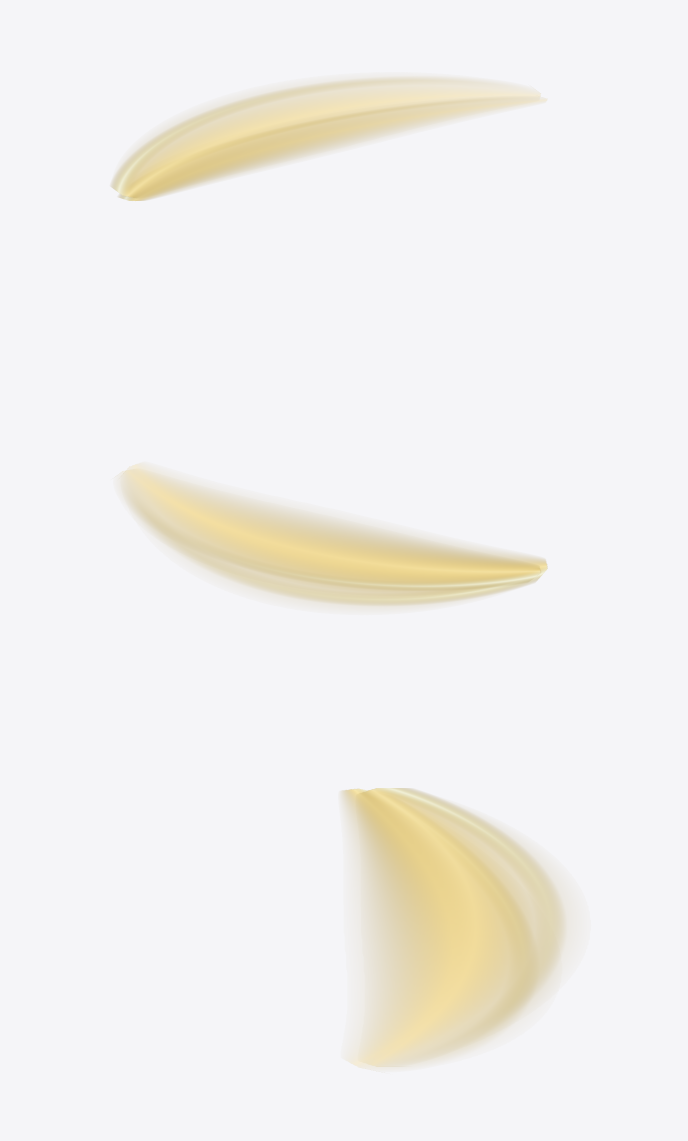
File: fx_sw_hammer.glb
The picture shows the model from 3 angles, top to bottom: view 1: azimuth 30°, elevation 25°; view 2: azimuth 150°, elevation 25°; view 3: azimuth 270°, elevation 25°; orthographic projection. The views are drawn at different scales.
Parts seen in each view (by area): view 1: fx_sw; view 2: fx_sw; view 3: fx_sw.
Boxes of the visible parts, x1,y1,x2,y2 form: fx_sw: (111,77,546,200); fx_sw: (117,464,547,606); fx_sw: (341,788,566,1069).
Size of the model in its own units: 1 by 0.22 by 1.
1 material, 1 textured.
